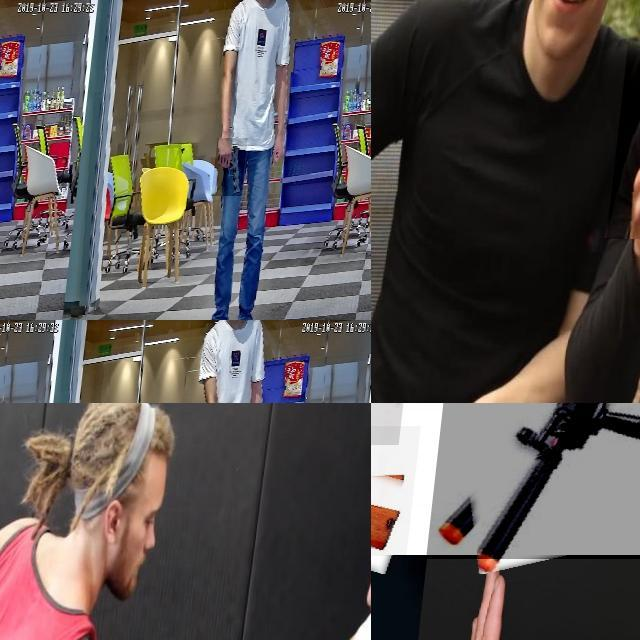gun-knife-thesis - v11 Yolov5 augmented: (433, 403, 640, 565), (371, 426, 512, 556), (371, 403, 511, 449), (371, 403, 505, 451), (216, 138, 252, 196), (0, 197, 18, 254)
